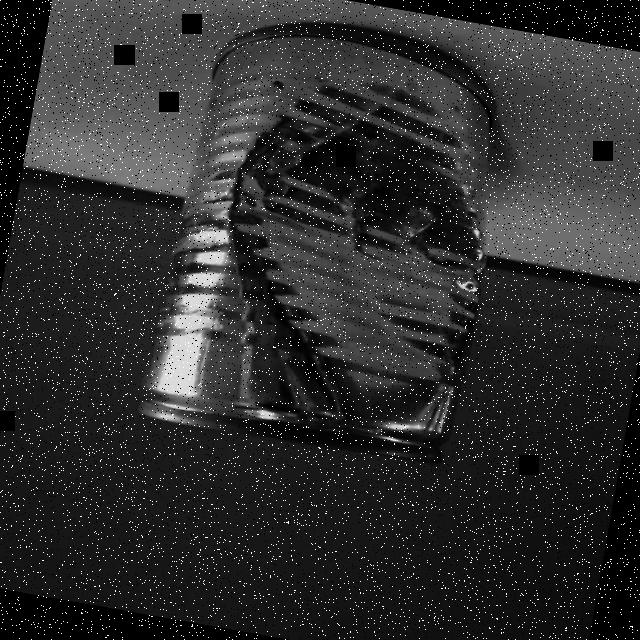can: (134, 0, 527, 475)
